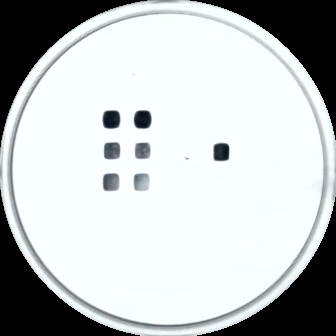检查点: (101, 109, 122, 129), (102, 142, 122, 160), (102, 172, 120, 192), (133, 172, 151, 192), (134, 110, 152, 129), (213, 143, 231, 162), (134, 142, 152, 160)
